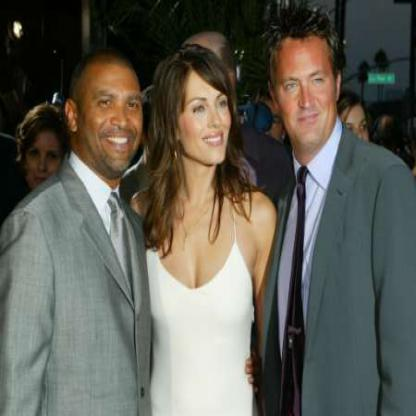face: (79, 55, 147, 178), (276, 18, 338, 148), (173, 49, 237, 172), (26, 116, 66, 197), (339, 97, 373, 165)
